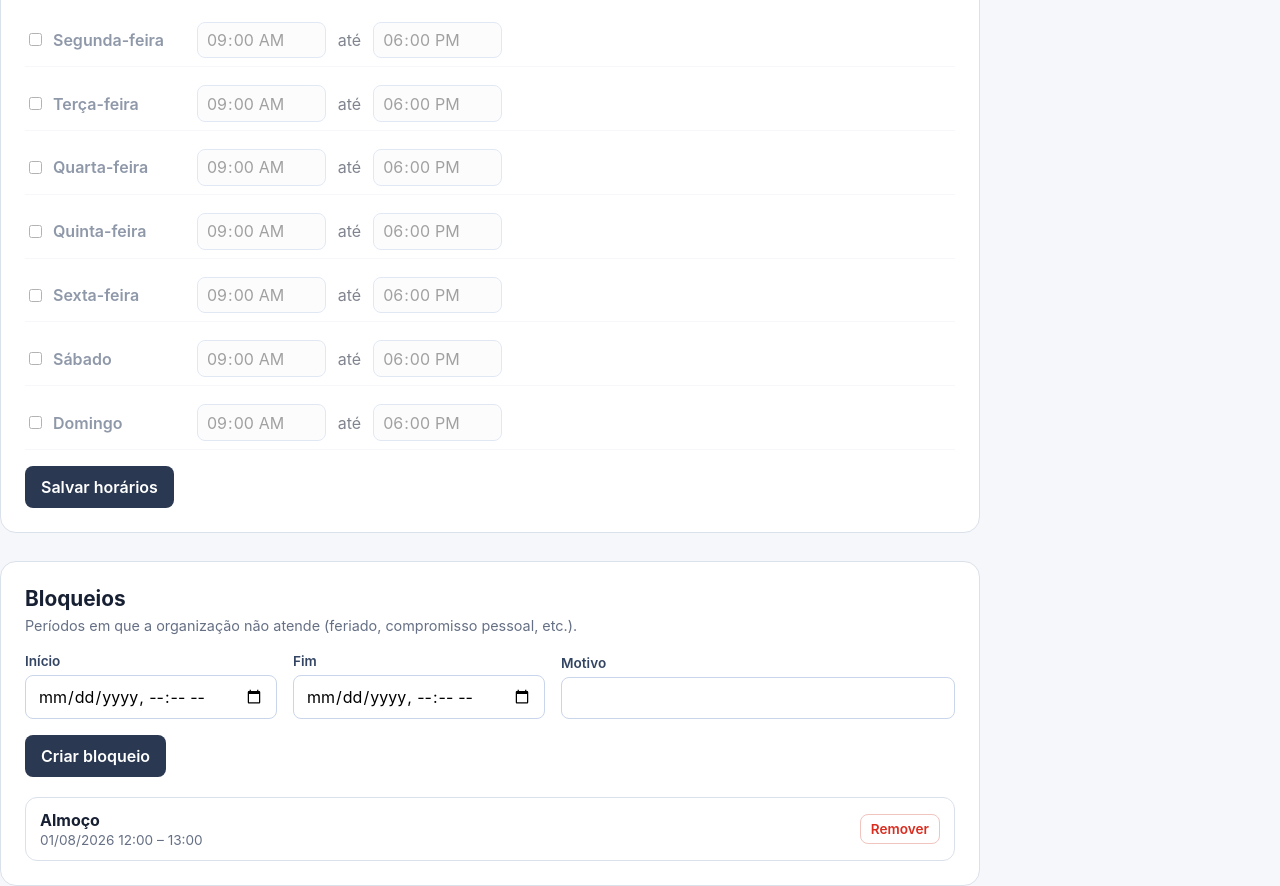
SettingsPageComponent › removes a block from the list
The width and height of the screenshot is (1280, 886).
(page scrolled)
Click the button with class "link-button--danger" at [900, 829], box left=860, top=814, right=940, bottom=844
(page scrolled)
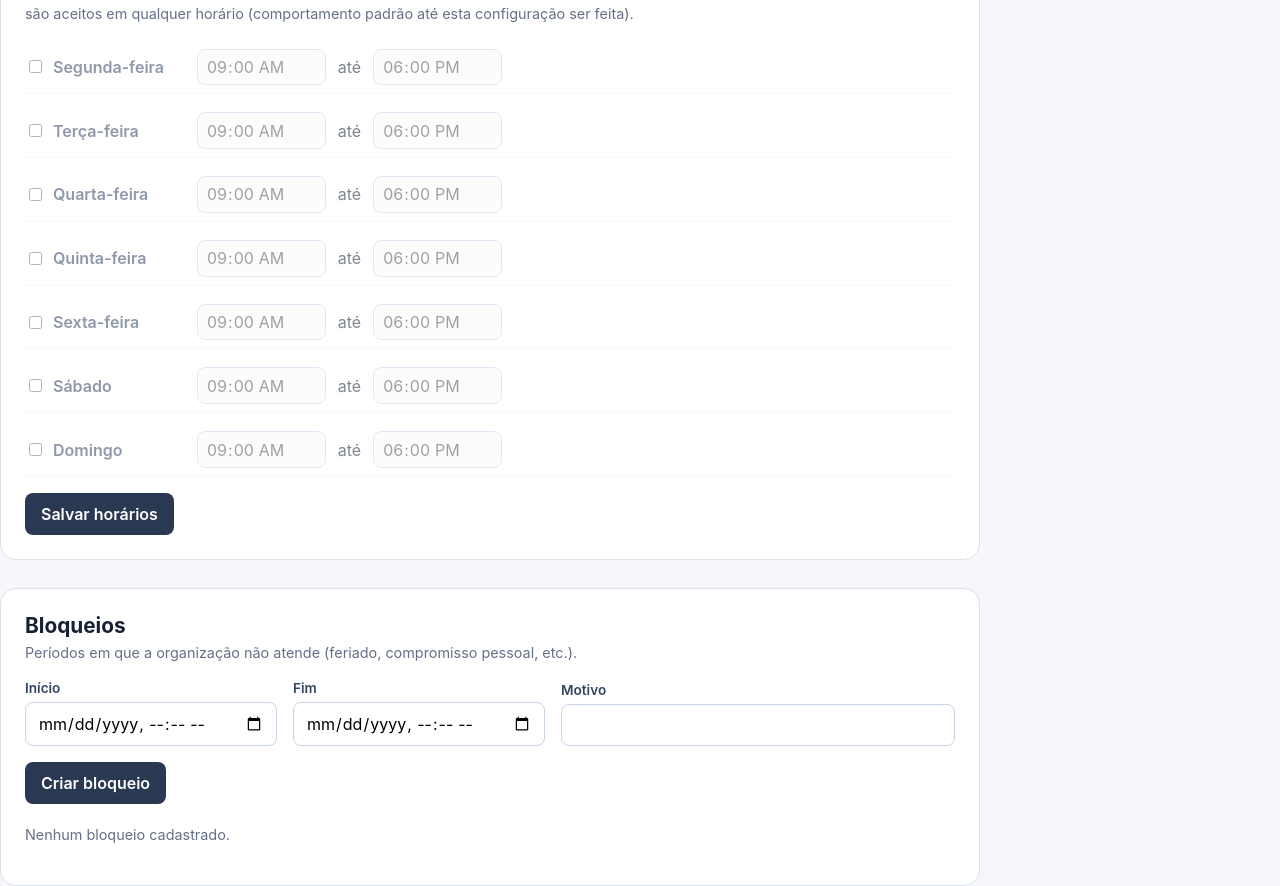
Expected: the text "Nenhum bloqueio cadastrado" is shown, left=25, top=826, right=230, bottom=843
